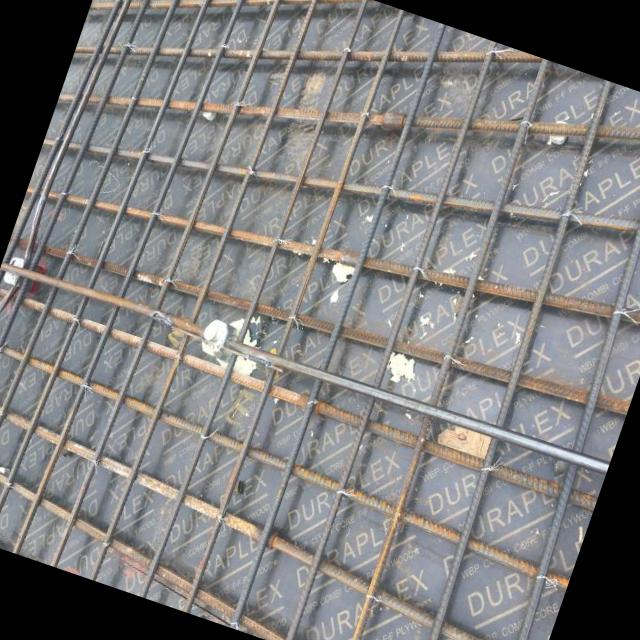ribbed bar: (223, 20, 570, 640), (190, 8, 499, 640), (156, 0, 432, 625), (291, 35, 575, 588), (116, 0, 363, 603), (15, 0, 257, 566), (72, 0, 297, 579), (0, 0, 221, 553), (58, 40, 530, 253), (73, 1, 542, 212), (44, 93, 513, 300), (29, 144, 494, 337), (9, 213, 472, 400), (0, 0, 185, 463), (87, 0, 558, 179), (0, 267, 453, 452), (0, 332, 430, 510), (95, 0, 573, 147), (0, 402, 404, 575), (386, 44, 576, 403), (0, 471, 382, 640), (249, 0, 574, 114)
